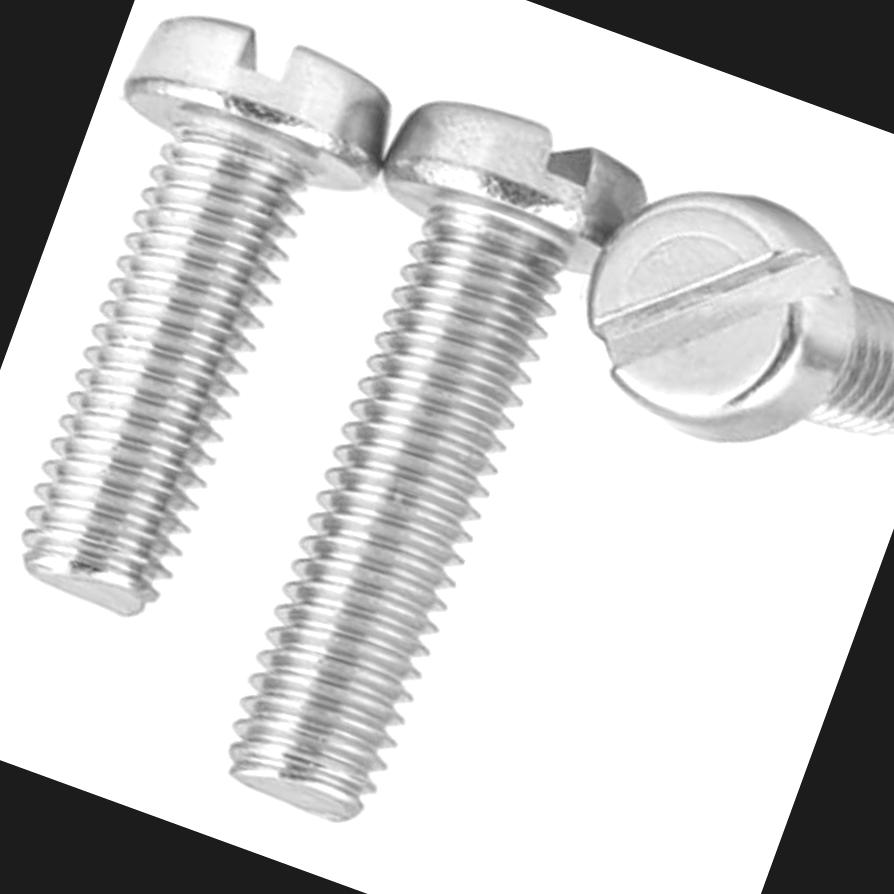screw: (549, 149, 885, 481)
